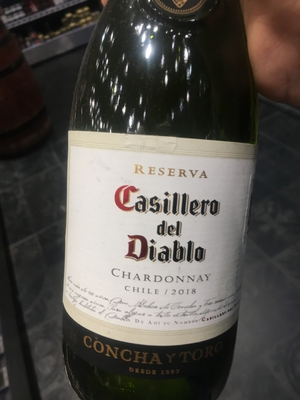casillero del diablo chardonnay: (56, 11, 264, 398)
